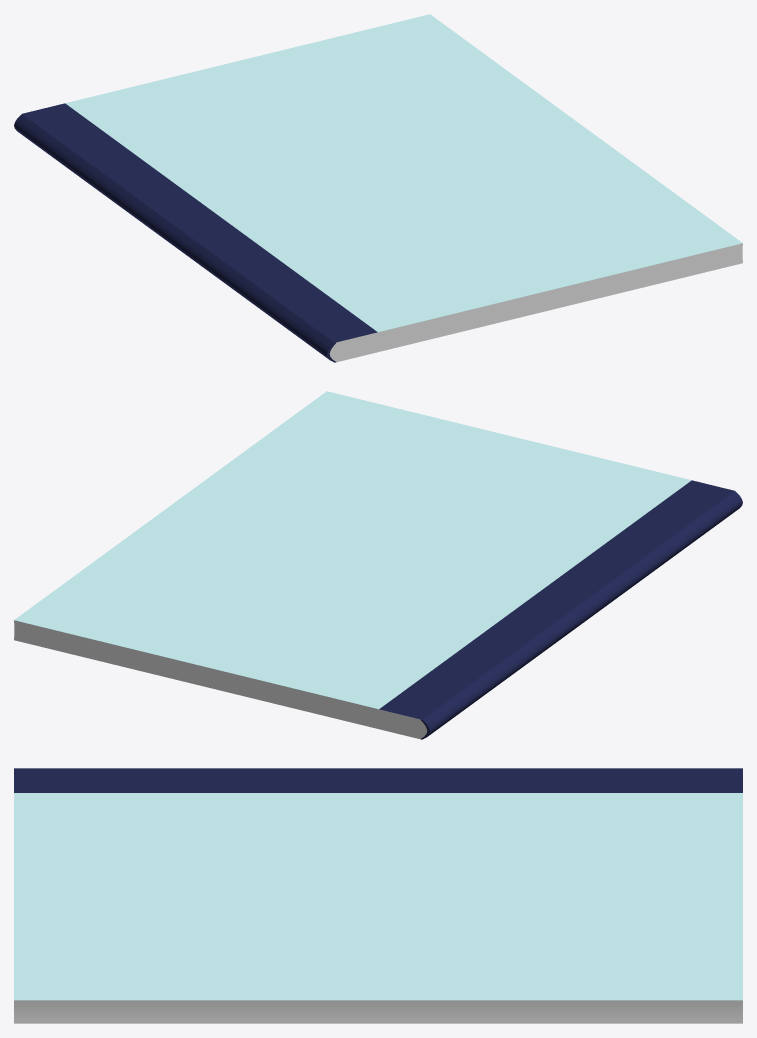
Rendered from note_book.fbx.
The picture shows the model from 3 angles, top to bottom: view 1: azimuth 30°, elevation 25°; view 2: azimuth 150°, elevation 25°; view 3: azimuth 270°, elevation 25°; orthographic projection. The views are drawn at different scales.
Visible parts, largest first — view 1: Cube.016; view 2: Cube.016; view 3: Cube.016.
Boxes of the visible parts, x1,y1,x2,y2 form: Cube.016: (14, 14, 742, 362); Cube.016: (14, 391, 742, 739); Cube.016: (14, 768, 742, 1023).
Size of the model in its own units: 23.33 by 1.07 by 30.38.
